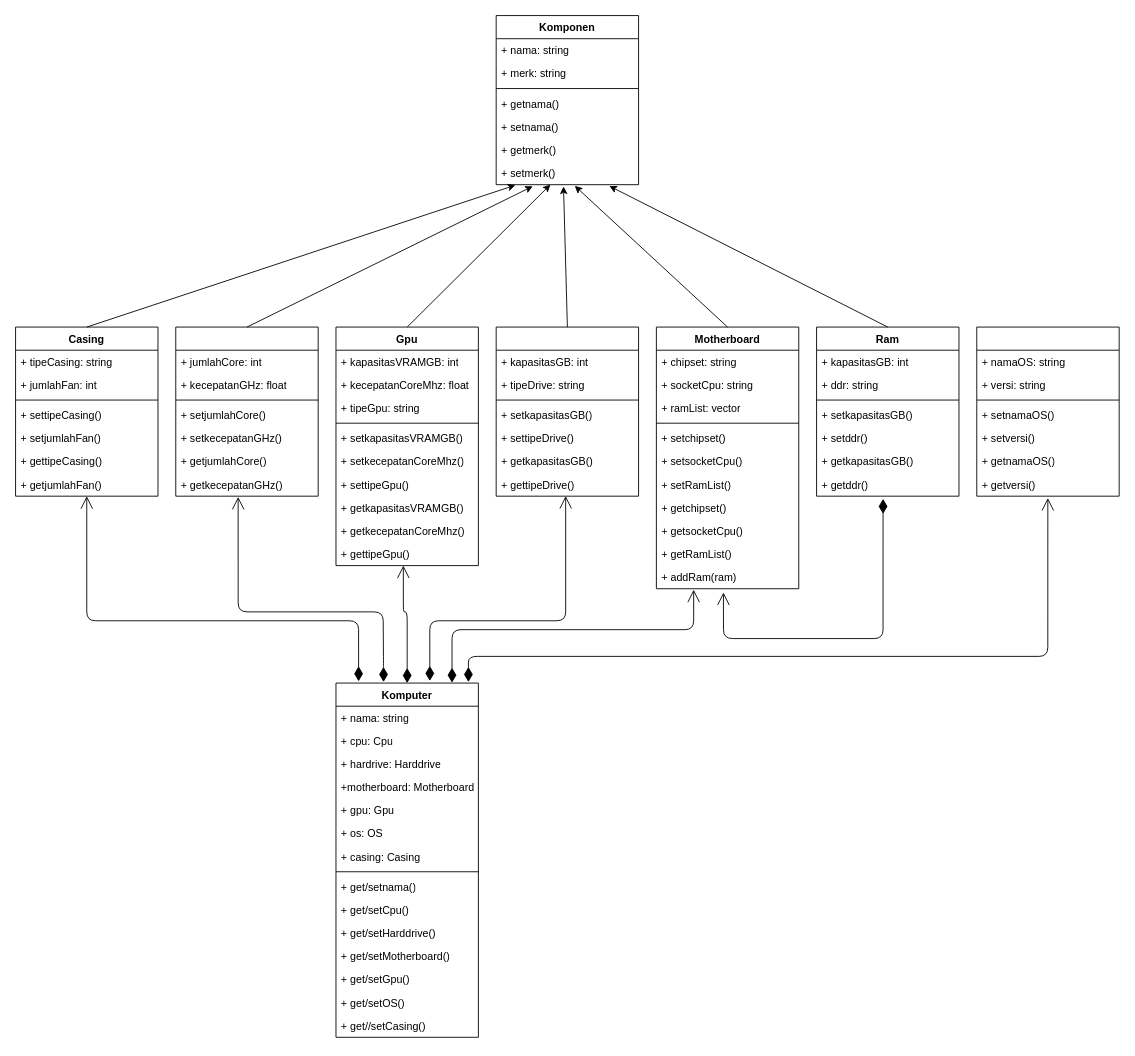
This 1135x1056 diagram has some shape labels left out. Here are the shapes that lost their labels. From the top down, the box of each, then its label:
(175, 326, 318, 496): Cpu
(495, 326, 639, 496): Harddrive
(976, 326, 1119, 496): OS
